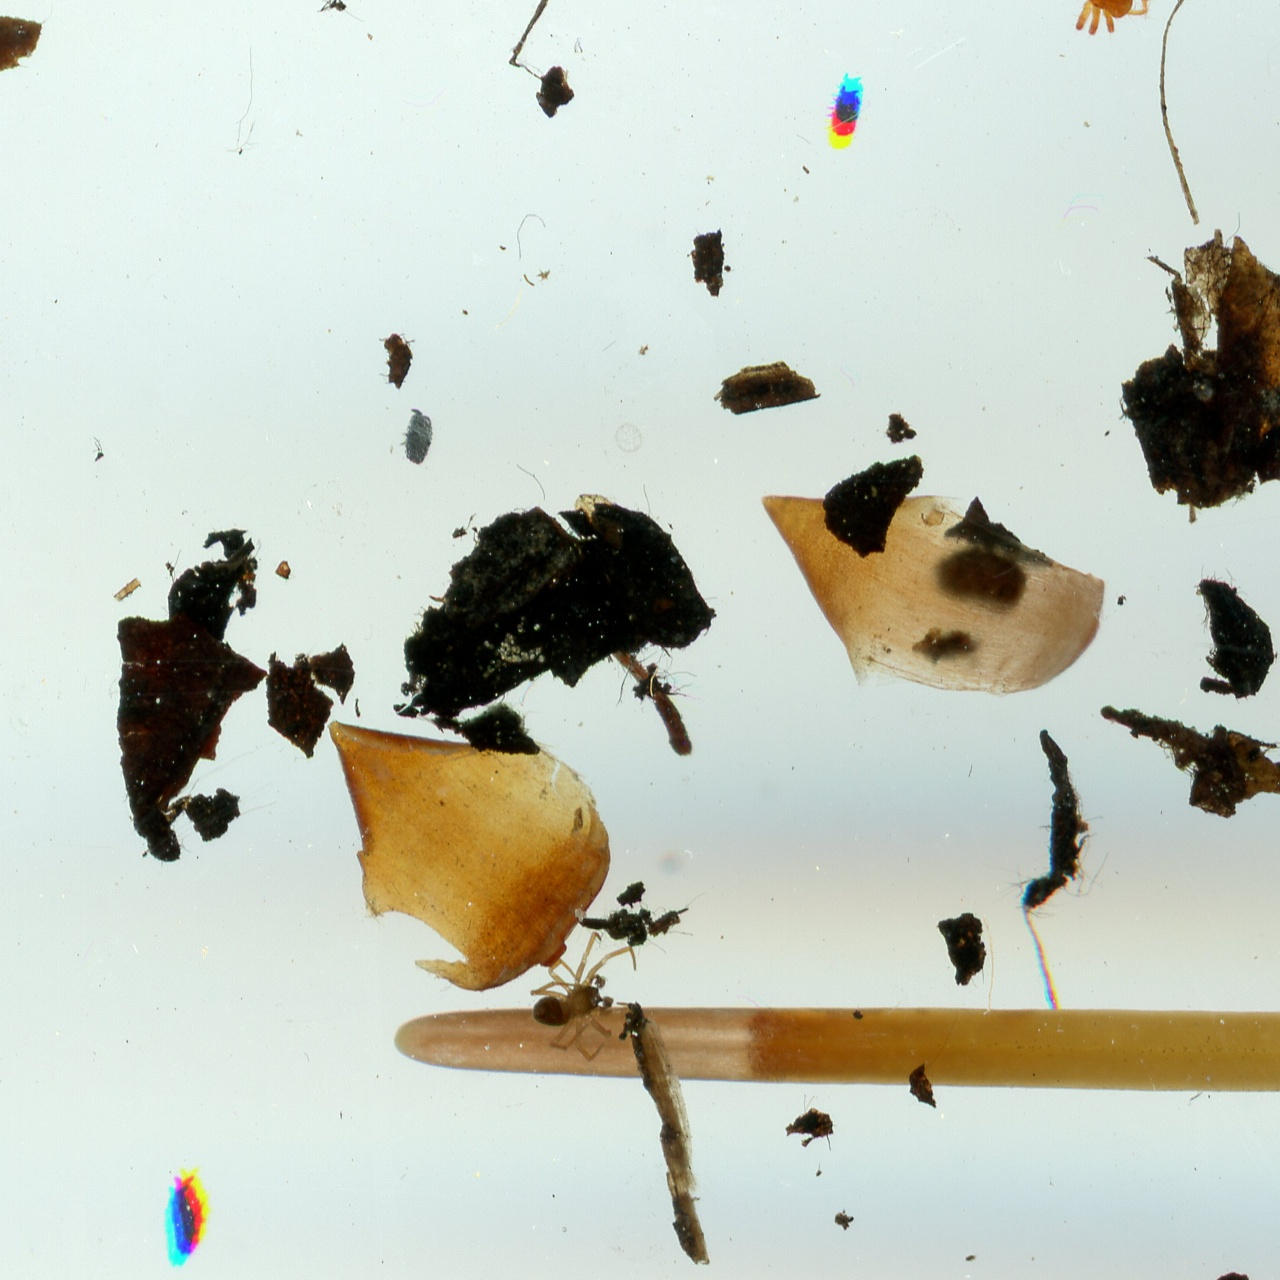arthropod: (515, 927, 640, 1064), (168, 1172, 211, 1266), (822, 69, 869, 156), (1073, 0, 1159, 45), (397, 404, 435, 468)
